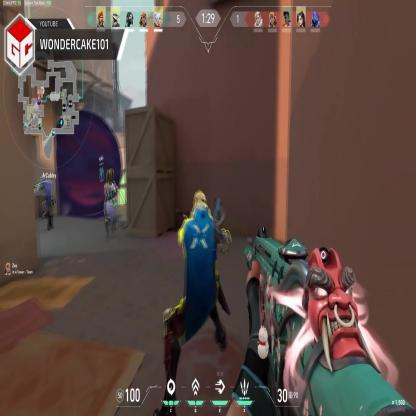enemy: (160, 180, 228, 410), (102, 171, 119, 235), (37, 170, 55, 230)
enemy_head: (192, 192, 207, 218), (39, 172, 46, 186), (107, 171, 114, 183)
